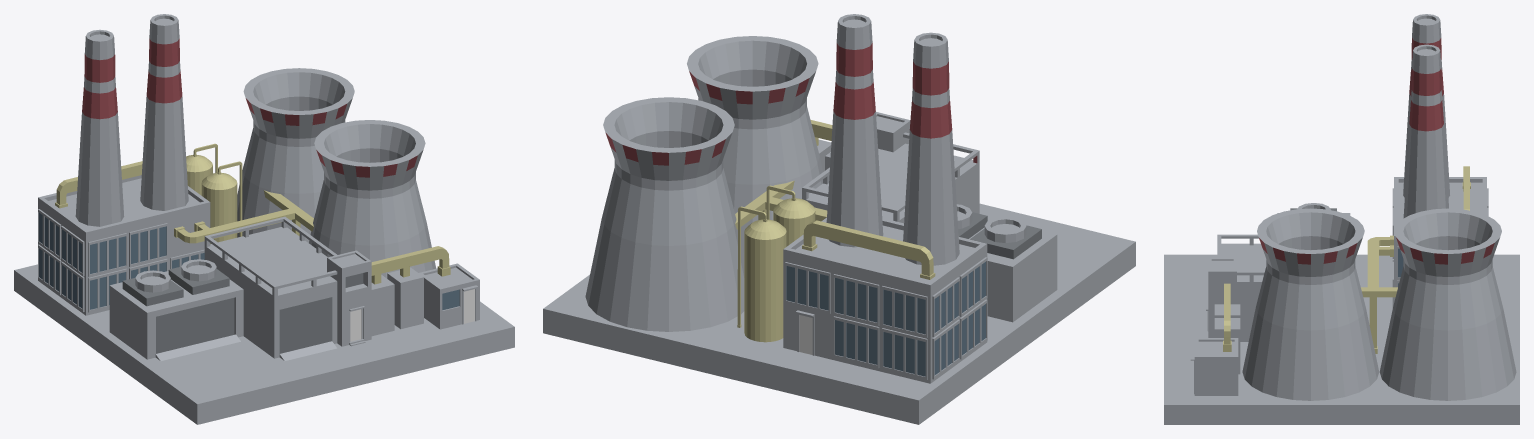
Rendered from power_station.fbx.
The picture shows the model from 3 angles, left to right: view 1: azimuth 30°, elevation 25°; view 2: azimuth 150°, elevation 25°; view 3: azimuth 270°, elevation 25°; orthographic projection. The views are drawn at different scales.
Visible parts, largest first — view 1: Power Station; view 2: Power Station; view 3: Power Station.
Part boxes in pixels (x1,y1,x2,y2): Power Station: (14,14,514,424); Power Station: (543,14,1135,424); Power Station: (1164,14,1519,424).
Bounding box in the file's own units: 294 × 249 × 294.
